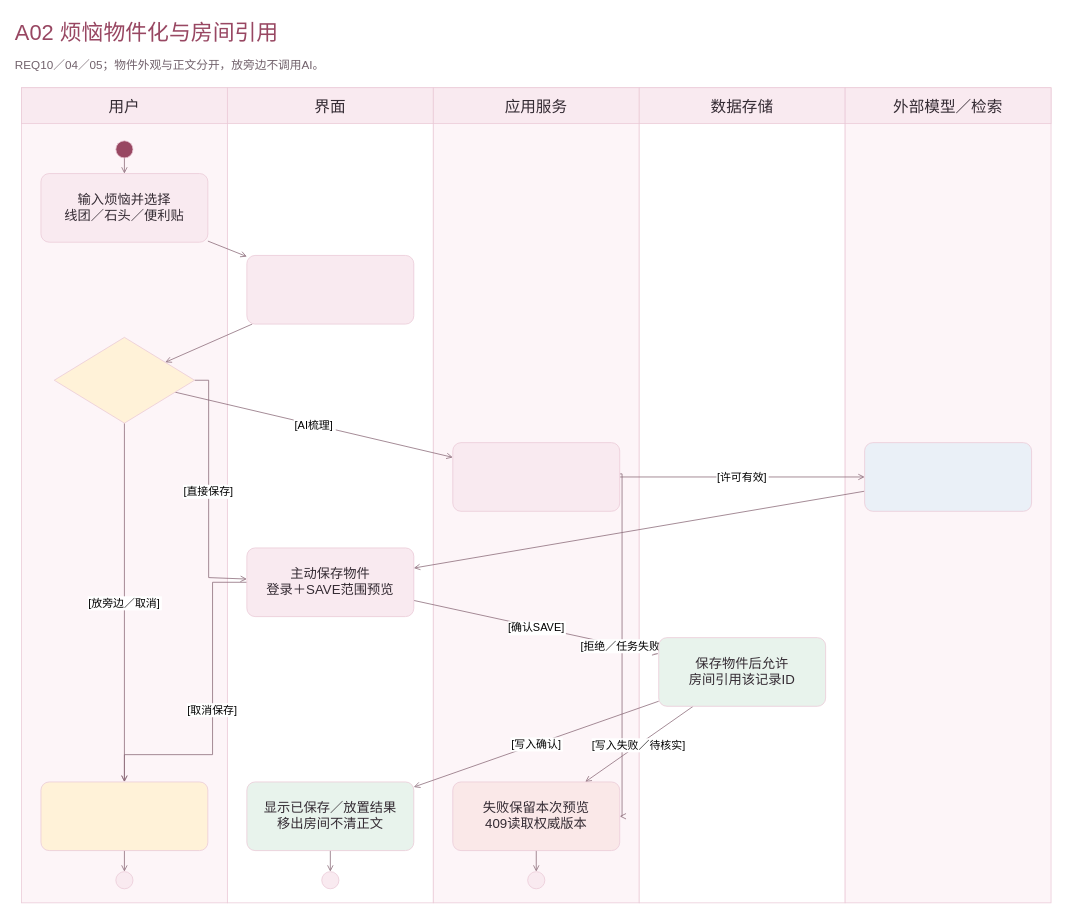
Some shapes in this 1072 by 916 pixel diagram are drawn without their labels. Here are the shapes that lost their labels. From the top down, the box of each, then its label:
(246, 255, 414, 324): 端侧生成外观预览 放旁边不自动保存
(53, 337, 195, 423): 选择下一步
(452, 442, 620, 511): 如选择AI梳理： 限定正文＋新AI许可
(864, 442, 1032, 511): 仅处理本次选定正文
(40, 781, 208, 851): 放旁边／取消确认 不保存、不外发
